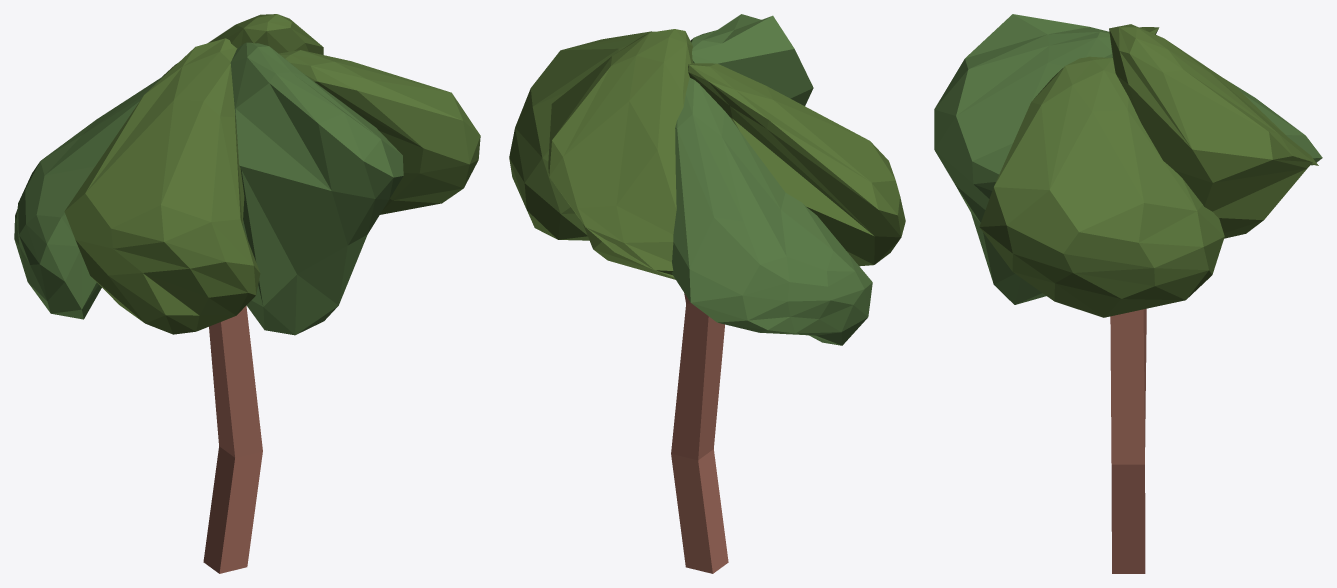
The model's file is tree03.fbx.
The picture shows the model from 3 angles, left to right: view 1: azimuth 30°, elevation 25°; view 2: azimuth 150°, elevation 25°; view 3: azimuth 270°, elevation 25°; orthographic projection. The views are drawn at different scales.
Visible parts, largest first — view 1: Tree03; view 2: Tree03; view 3: Tree03.
Part boxes in pixels (left/top/right/bottom): Tree03: left=14, top=14, right=480, bottom=573; Tree03: left=509, top=14, right=905, bottom=573; Tree03: left=934, top=14, right=1322, bottom=573.
Size of the model in its own units: 395 by 528 by 333.
